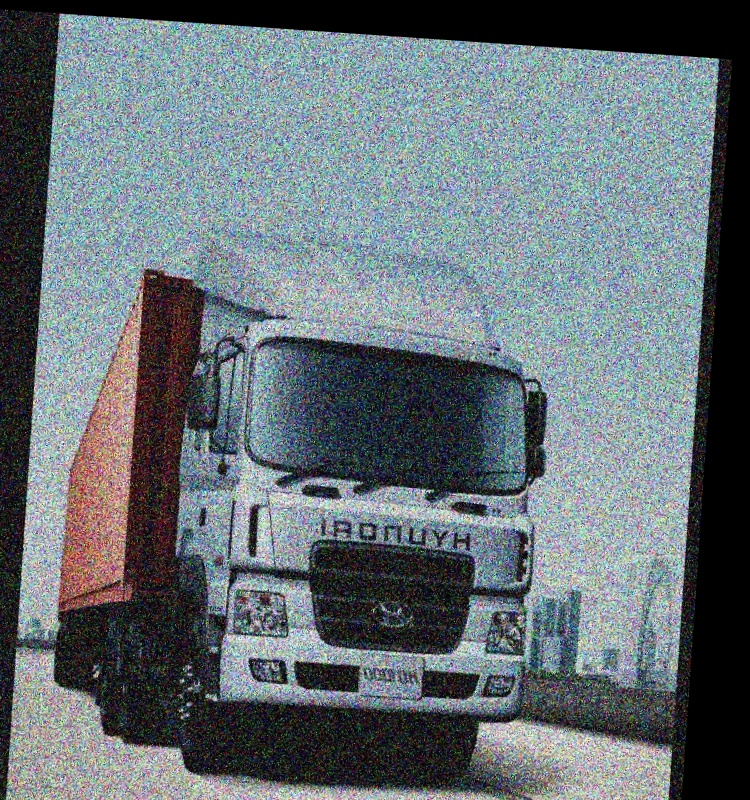truck: (52, 211, 555, 799)
